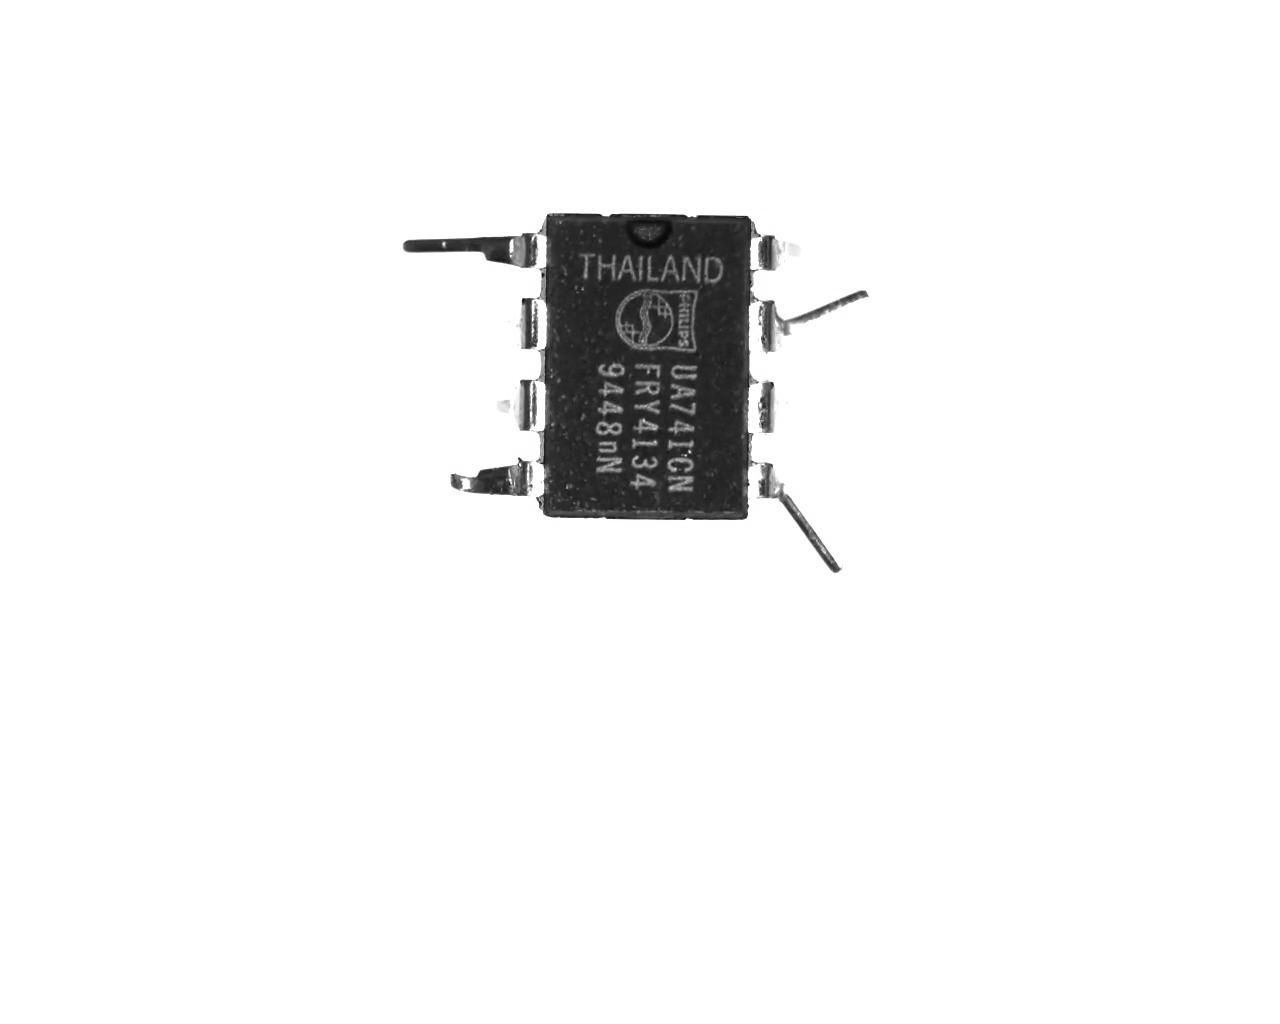Leg: (745, 459, 844, 573), (745, 292, 874, 353), (396, 230, 548, 273), (436, 456, 546, 507), (493, 293, 548, 357), (742, 230, 815, 276), (490, 378, 549, 433), (748, 371, 786, 447)
